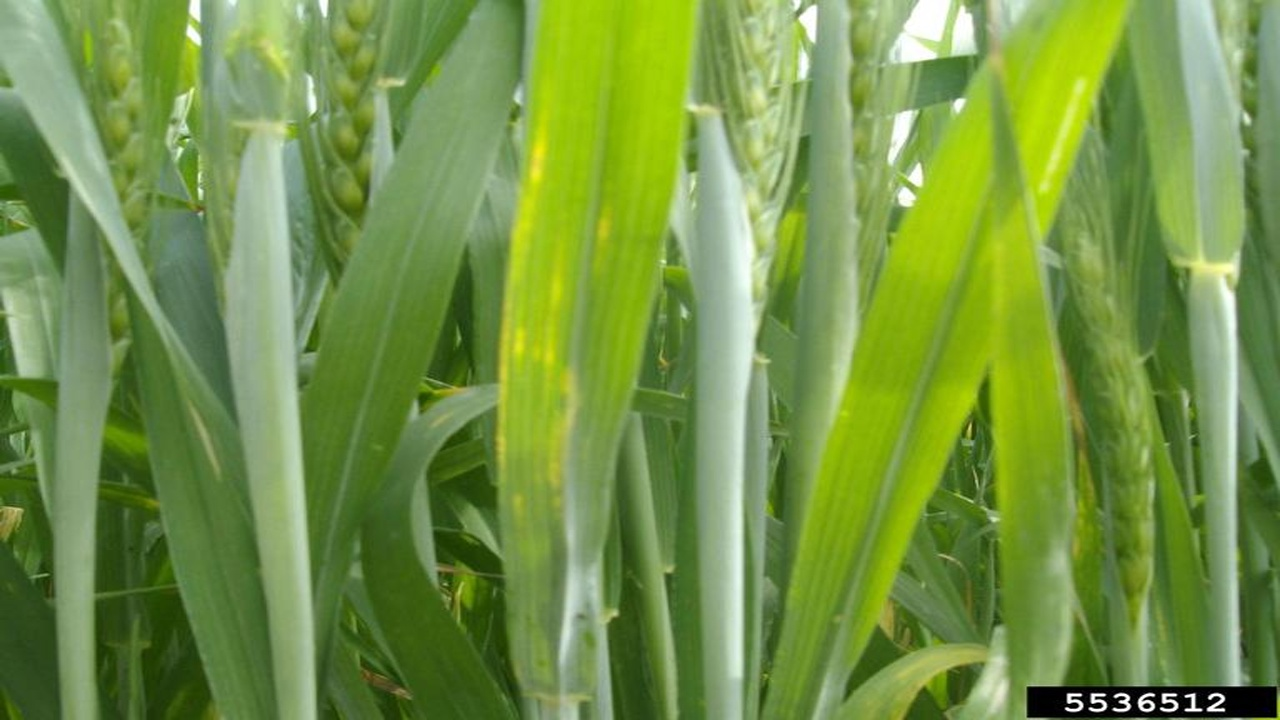stripe_rust: (498, 2, 681, 720)
